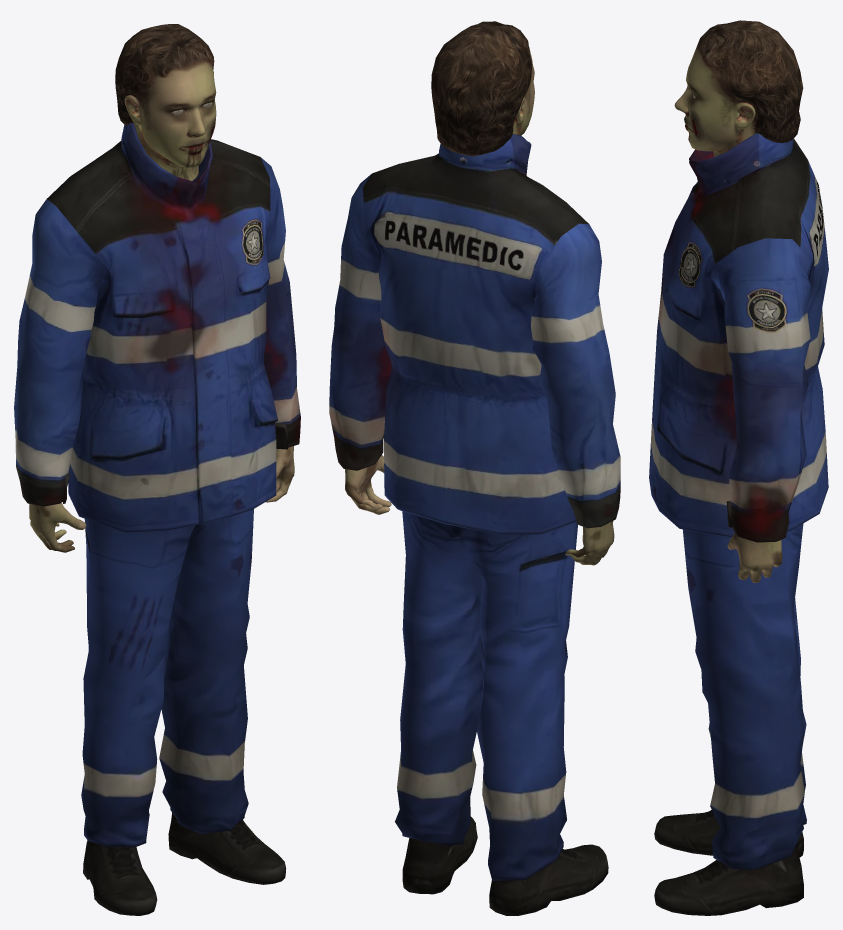
File: paramedic.glb
The picture shows the model from 3 angles, left to right: view 1: azimuth 30°, elevation 25°; view 2: azimuth 150°, elevation 25°; view 3: azimuth 270°, elevation 25°; orthographic projection.
Visible parts, largest first — view 1: paramedic; view 2: paramedic; view 3: paramedic.
Boxes of the visible parts, x1,y1,x2,y2 form: paramedic: (14, 24, 300, 915); paramedic: (329, 21, 620, 915); paramedic: (649, 20, 828, 915).
Size of the model in its own units: 0.6226 by 1.83 by 0.3488.
3 materials, 3 textured.
